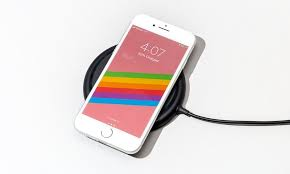iphone: (73, 9, 196, 156)
iphone8: (73, 7, 196, 154)
